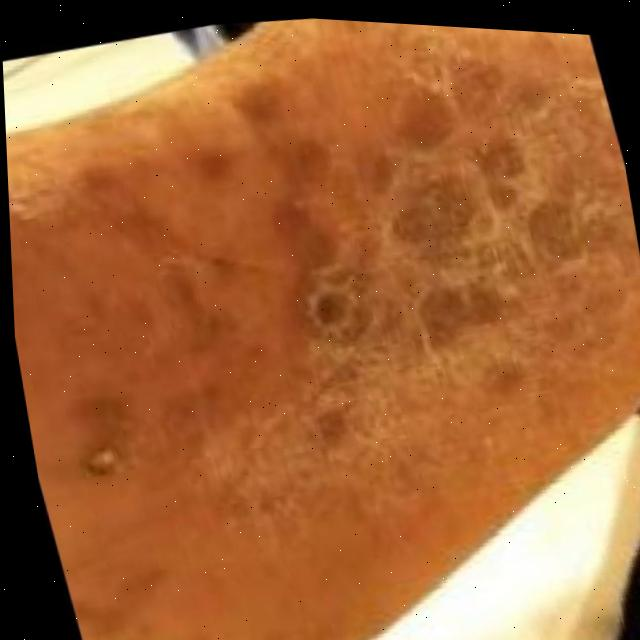Eczema: (64, 59, 640, 561)
